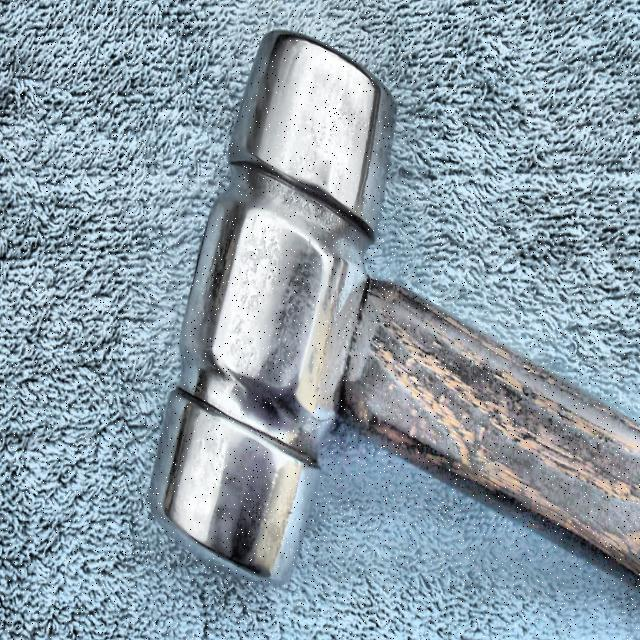hammer: (142, 26, 639, 585)
